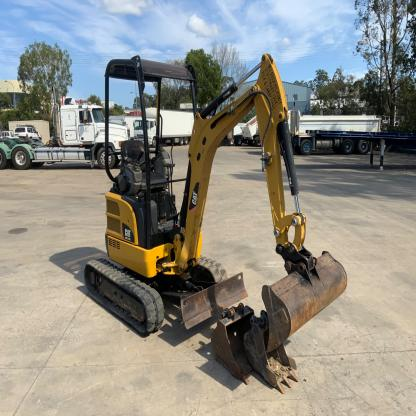dump_truck: (4, 98, 132, 178)
excavator: (68, 22, 362, 391)
